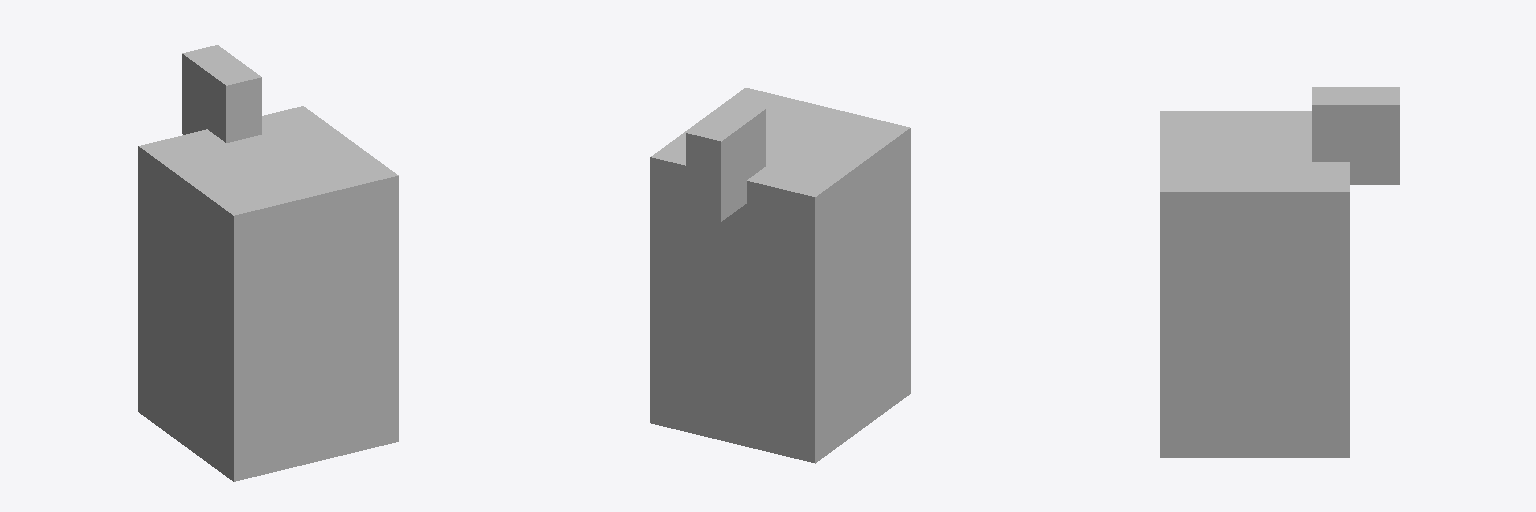
File: gwenade.obj
3 renders of one model, left to right at view 1: azimuth 30°, elevation 25°; view 2: azimuth 150°, elevation 25°; view 3: azimuth 270°, elevation 25°, orthographic.
Visible parts, largest first — view 1: Cube_Cube.001; view 2: Cube_Cube.001; view 3: Cube_Cube.001.
Boxes of the visible parts, box(x1,y1,x2,y2) form: Cube_Cube.001: box(138, 45, 398, 481); Cube_Cube.001: box(650, 88, 910, 463); Cube_Cube.001: box(1160, 87, 1399, 457).
Bounding box in the file's own units: 0.4058 × 0.7607 × 0.513.